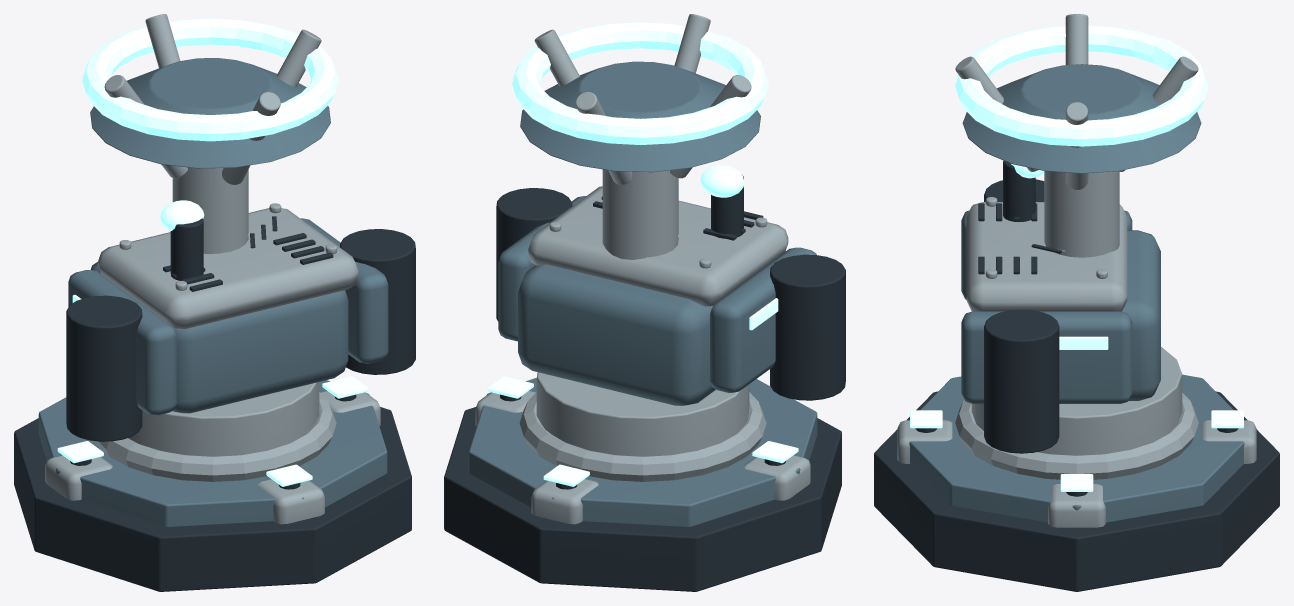
File: 09_fieldcontrol_pulse.glb
3 views of the same model, side by side, from view 1: azimuth 30°, elevation 25°; view 2: azimuth 150°, elevation 25°; view 3: azimuth 270°, elevation 25° (orthographic).
Visible parts, largest first — view 1: Armored cradle, Anchor deck, Top carapace, Cooling vent, Bearing, Beveled plinth, Identification strip, Safety flash; view 2: Armored cradle, Anchor deck, Top carapace, Bearing, Beveled plinth, Cooling vent, Identification strip, Safety flash; view 3: Anchor deck, Armored cradle, Top carapace, Bearing, Beveled plinth, Identification strip, Cooling vent, Safety flash.
Part boxes in pixels (x1,y1,x2,y2): Armored cradle: [68, 58, 388, 415]; Anchor deck: [14, 394, 411, 591]; Top carapace: [98, 14, 358, 329]; Cooling vent: [66, 216, 415, 441]; Bearing: [45, 382, 380, 524]; Beveled plinth: [38, 380, 387, 526]; Identification strip: [72, 18, 338, 302]; Safety flash: [57, 376, 368, 486]; Armored cradle: [498, 61, 816, 405]; Anchor deck: [444, 394, 841, 591]; Top carapace: [528, 14, 788, 306]; Bearing: [475, 372, 810, 524]; Beveled plinth: [468, 377, 817, 526]; Cooling vent: [496, 175, 845, 400]; Identification strip: [512, 22, 778, 330]; Safety flash: [487, 376, 798, 486]; Anchor deck: [874, 391, 1279, 591]; Armored cradle: [961, 64, 1201, 403]; Top carapace: [955, 14, 1198, 311]; Bearing: [897, 347, 1256, 527]; Beveled plinth: [899, 374, 1254, 522]; Identification strip: [955, 25, 1208, 349]; Cooling vent: [978, 161, 1061, 453]; Safety flash: [910, 410, 1243, 491].
Bounding box in the file's own units: 1.62 × 1.97 × 1.62.
